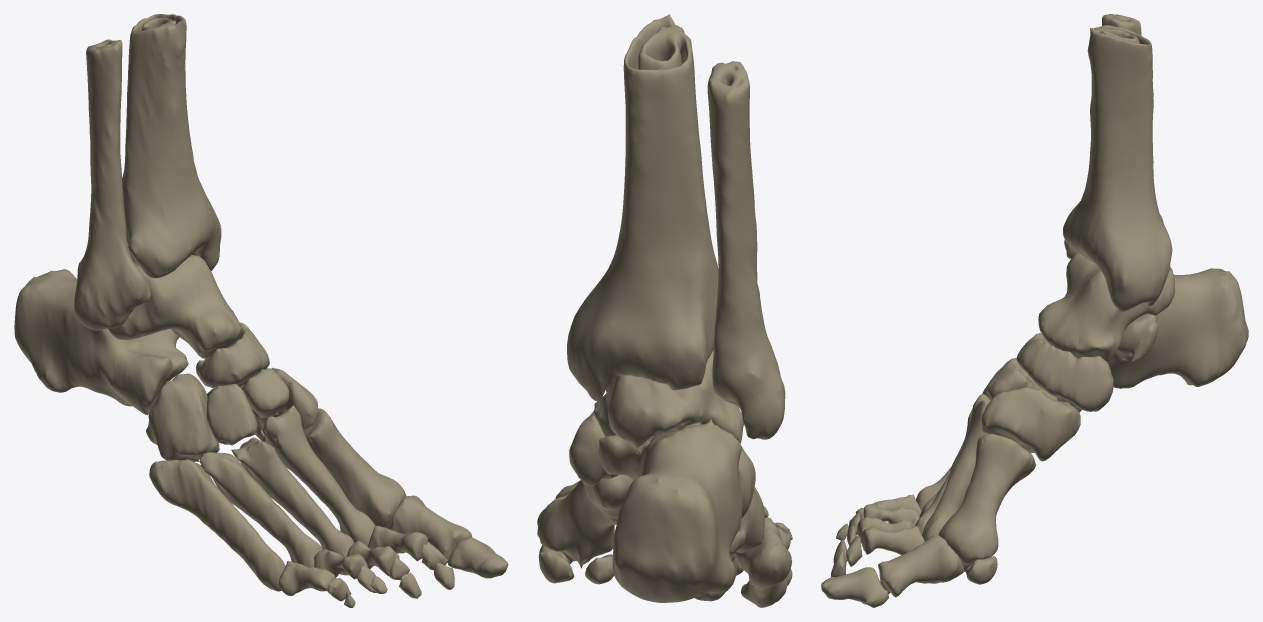
The model's file is foot__ankle.glb.
3 views of the same model, side by side, from view 1: azimuth 30°, elevation 25°; view 2: azimuth 150°, elevation 25°; view 3: azimuth 270°, elevation 25° (orthographic). The views are drawn at different scales.
Parts seen in each view (by area): view 1: Object_2, Object_3; view 2: Object_2, Object_3; view 3: Object_2, Object_3.
Boxes of the visible parts, bbox=[...] form: Object_2: bbox=[75, 14, 508, 607]; Object_3: bbox=[14, 221, 273, 409]; Object_2: bbox=[537, 14, 792, 607]; Object_3: bbox=[568, 326, 784, 602]; Object_2: bbox=[821, 14, 1172, 607]; Object_3: bbox=[1007, 229, 1248, 397].
Size of the model in its own units: 147 by 241 by 188.
